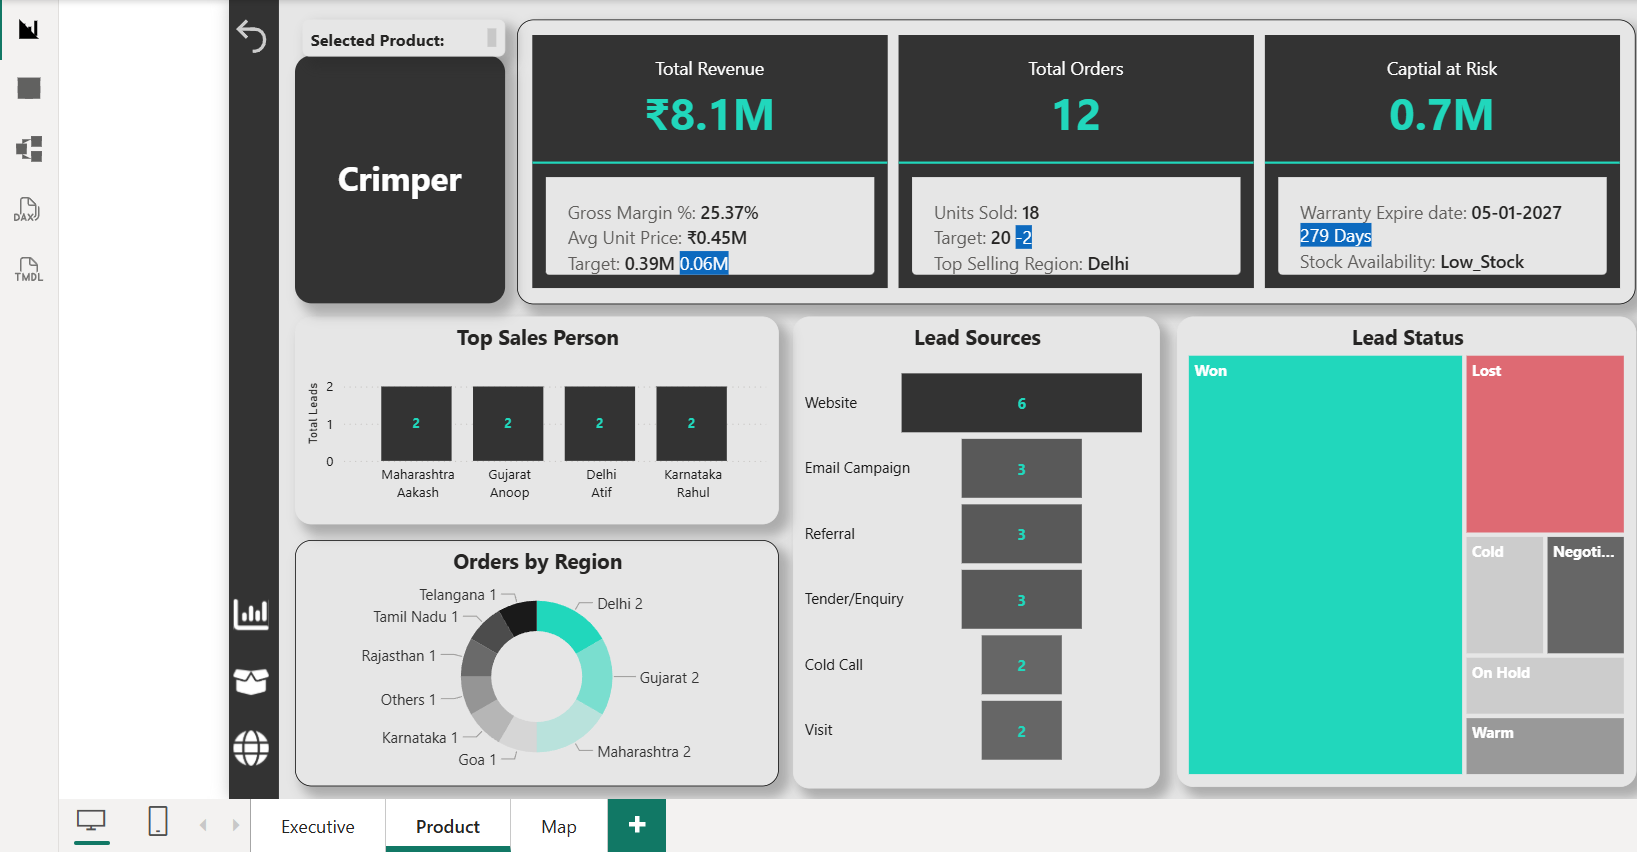

What the dashboard file says about the page in this screenshot:
{"tool":"powerbi","page":{"name":"Product","canvas":[1280,720],"ordinal":1},"visuals":[{"type":"shape","box":[0,0,45,720.5],"z":0},{"type":"actionButton","box":[0,534.3,54.9,39.8],"z":0,"group":"g1"},{"type":"cardVisual","fields":{"Data":["Meaure Table.TotalRevenue","Meaure Table.TotalOrders","Meaure Table.SittingStockValue"]},"box":[259.9,17.3,1008.1,256.7],"z":1000},{"type":"actionButton","box":[0,594.7,54.9,39.8],"z":1000,"group":"g1"},{"type":"donutChart","title":"Orders by Region","fields":{"Category":["users.region"],"Y":["Meaure Table.Orders by Region"]},"box":[59.9,486.7,436.3,222.1],"z":2000},{"type":"actionButton","box":[0,655.1,54.9,39.8],"z":2000,"group":"g1"},{"type":"funnel","title":"Lead Sources","fields":{"Category":["lead_source_lookup.name"],"Y":["Meaure Table.TotalLeads"]},"box":[508.8,285.1,330.8,425.3],"z":3000},{"type":"treemap","title":"Lead Status","fields":{"Group":["lead_status_lookup.name"],"Values":["Meaure Table.TotalLeads"]},"box":[853.7,285.1,414.2,423.7],"z":4000},{"type":"clusteredColumnChart","title":"Top Sales Person","fields":{"Category":["leads.sales_person","users.region"],"Y":["Meaure Table.TotalLeads"]},"box":[59.9,285.1,436.3,187.4],"z":5000},{"type":"card","fields":{"Values":["Min(inventory.item_description)"]},"box":[59.9,50.4,189,223.7],"z":6000},{"type":"textbox","box":[66.2,17.3,182.7,33.1],"z":7000},{"type":"actionButton","box":[0,12.2,44.6,40.6],"z":8000},{"type":"group","id":"g1","title":"Navigation Buttons","box":[0,534.3,54.9,160.6],"z":9000}]}

Visuals, with their boxes on the page's 1280x720 design canvas (x1, y1, x2, y2). These are canvas units, not pixel positions in the 1637x852 screenshot, which may show the page scaled, cropped or inside an application window:
shape: 0/0/45/720
actionButton: 0/534/55/574
cardVisual - Meaure Table.TotalRevenue x Meaure Table.TotalOrders: 260/17/1268/274
actionButton: 0/595/55/634
"Orders by Region" donutChart: 60/487/496/709
actionButton: 0/655/55/695
"Lead Sources" funnel: 509/285/840/710
"Lead Status" treemap: 854/285/1268/709
"Top Sales Person" clusteredColumnChart: 60/285/496/472
card - Min(inventory.item_description): 60/50/249/274
textbox: 66/17/249/50
actionButton: 0/12/45/53
"Navigation Buttons" group: 0/534/55/695
